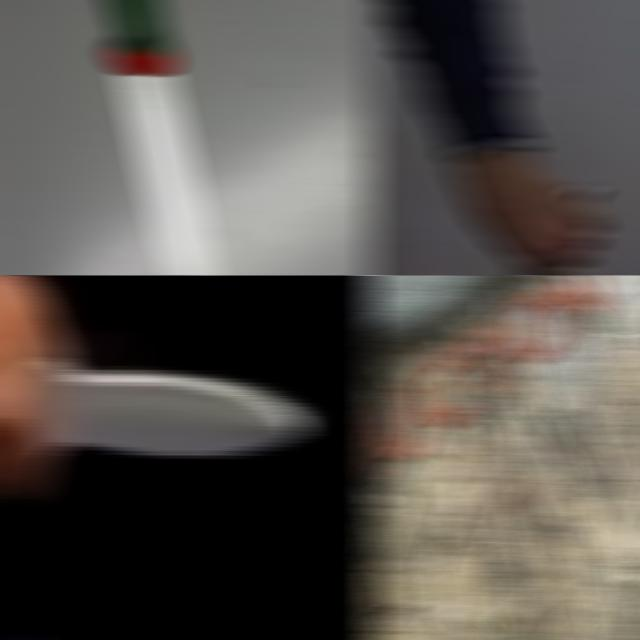Knife: (19, 358, 308, 468), (105, 0, 215, 275)
Knife_Handle: (0, 275, 325, 517), (434, 162, 604, 275)
